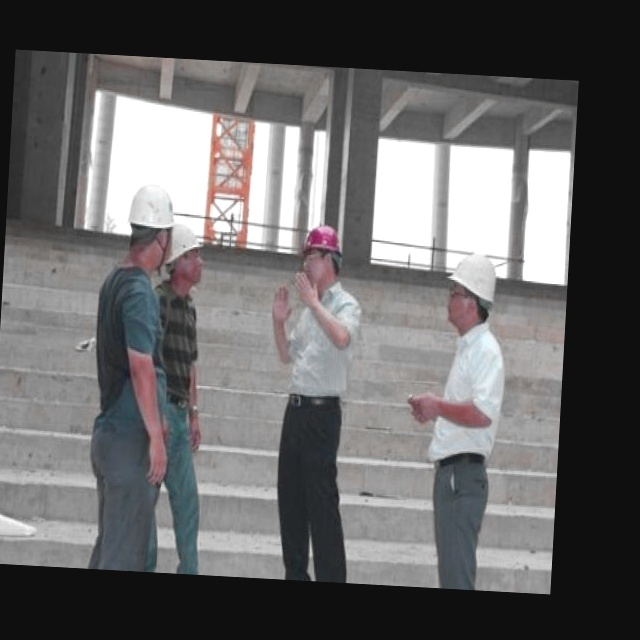Con_Casco: (447, 250, 498, 332), (299, 224, 343, 289)
